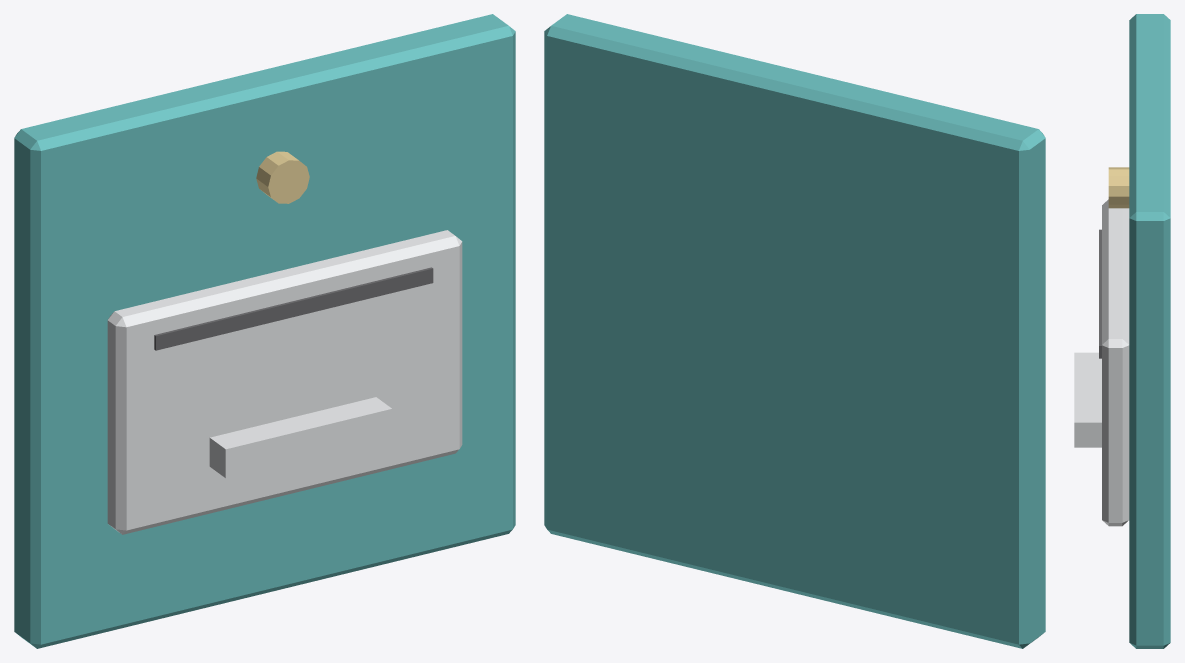
The model's file is night_drop.glb.
3 renders of one model, left to right at view 1: azimuth 30°, elevation 25°; view 2: azimuth 150°, elevation 25°; view 3: azimuth 270°, elevation 25°, orthographic. The views are drawn at different scales.
Parts seen in each view (by area): view 1: night_drop_teal, night_drop_chrome, night_drop_dark, night_drop_brass; view 2: night_drop_teal; view 3: night_drop_teal, night_drop_chrome, night_drop_brass, night_drop_dark.
Part boxes in pixels (x1,y1,x2,y2): night_drop_teal: (14,14,515,648); night_drop_chrome: (107,230,462,534); night_drop_dark: (154,267,433,350); night_drop_brass: (256,151,309,203); night_drop_teal: (544,14,1045,648); night_drop_teal: (1129,14,1170,648); night_drop_chrome: (1074,199,1129,526); night_drop_brass: (1108,167,1129,208); night_drop_dark: (1099,229,1101,358).
Size of the model in its own units: 0.7 by 0.7 by 0.14.
